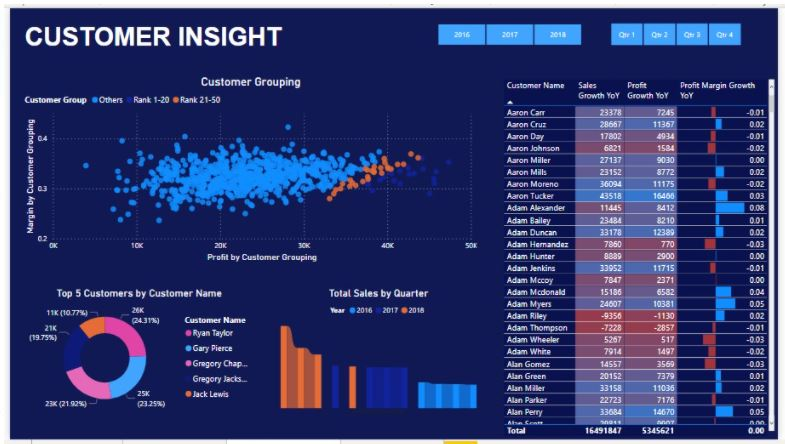

The dashboard page shown, as its layout file describes it:
{"tool":"powerbi","page":{"name":"Customer Insight","canvas":[1280,720],"ordinal":2},"visuals":[{"type":"donutChart","fields":{"Category":["Customer Data.Customer Name"],"Y":["Key Calculations.Top 5 Customers"]},"box":[19.9,465.8,392,217.3],"z":0},{"type":"slicer","fields":{"Values":["Dates.Year"]},"box":[688.8,19.9,288.3,48.3],"z":1000},{"type":"slicer","fields":{"Values":["Dates.Date.Variation.Date Hierarchy.Quarter"]},"box":[977,18.5,265.6,49.7],"z":2000},{"type":"textbox","box":[19.9,18.5,478.6,62.5],"z":3000},{"type":"tableEx","fields":{"Values":["Customer Data.Customer Name","Time Intelligence Functions.Sales TY vs LY","Time Intelligence Functions.Profit TY vs LY","Time Intelligence Functions.Profit Margin TY vs LY"]},"box":[818,113.6,461.5,606.4],"z":4000},{"type":"scatterChart","title":"Customer Grouping","fields":{"X":["Key Calculations.Profit by Customer Grouping"],"Category":["Customer Data.Customer Name"],"Series":["Customer Group.Customer Group"],"Y":["Key Calculations.Margin by Customer Grouping"]},"box":[19.9,110.8,764,316.7],"z":5000},{"type":"ribbonChart","title":"Total Sales by Quarter","fields":{"Category":["Dates.QuarterInCalendar"],"Y":["Key Calculations.Total Sales"],"Series":["Dates.Year"]},"box":[445.9,465.8,338,217.3],"z":6000}]}

Visuals, with their boxes in screenshot pixels (x1, y1, x2, y2), scaled from the page's 1280x720 canvas onto the 785x444 screenshot:
donutChart - Customer Data.Customer Name x Key Calculations.Top 5 Customers: <box>12,287,253,421</box>
slicer - Dates.Year: <box>422,12,599,42</box>
slicer - Dates.Date.Variation.Date Hierarchy.Quarter: <box>599,11,762,42</box>
textbox: <box>12,11,306,50</box>
tableEx - Customer Data.Customer Name x Time Intelligence Functions.Sales TY vs LY: <box>502,70,784,443</box>
"Customer Grouping" scatterChart: <box>12,68,481,264</box>
"Total Sales by Quarter" ribbonChart: <box>273,287,481,421</box>
